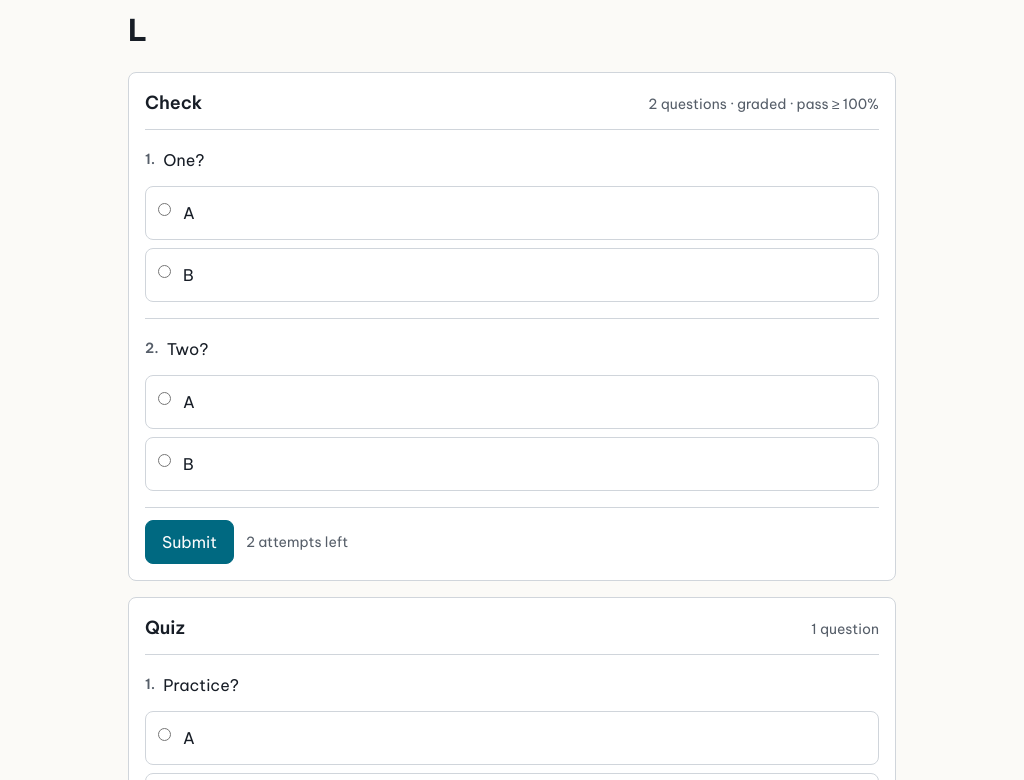
Scenario: QuizRenderer › graded quiz: submit, feedback after submit, retry within attempts, completion state
The width and height of the screenshot is (1024, 780).
Expected: the element "Check" shows "2 questions", x1=648 y1=95 x2=879 y2=113
Click the radio button labelled "B" below "One?" at (164, 272), box x1=158 y1=265 x2=171 y2=278
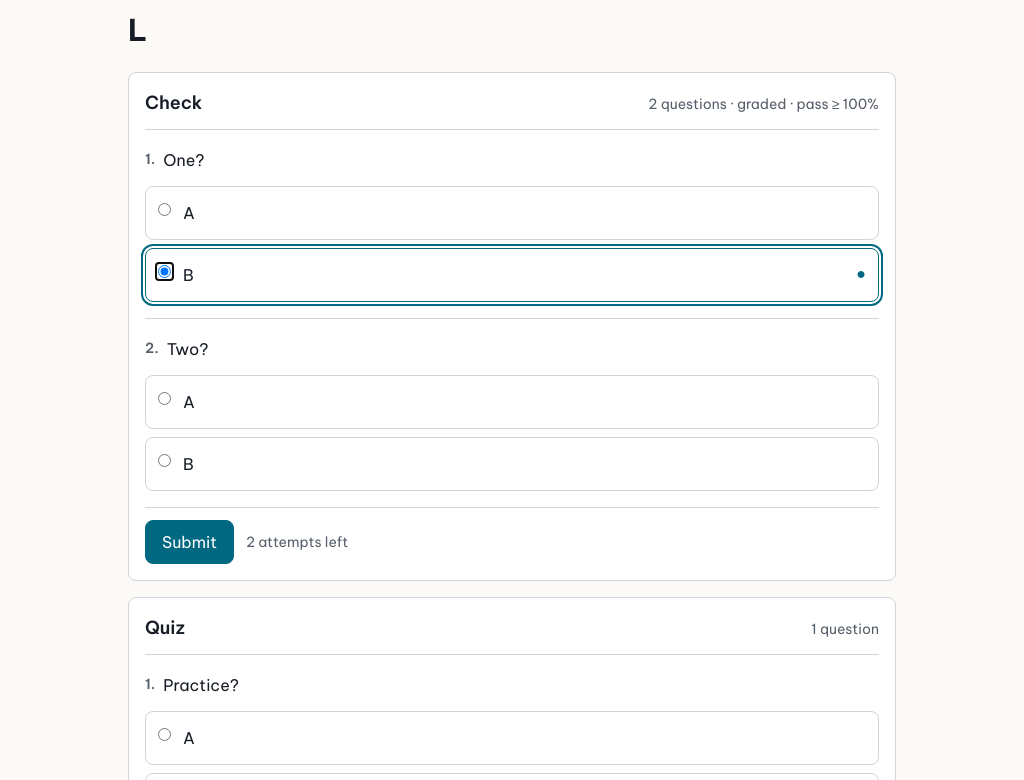
Click the radio button labelled "A" below "Two?" at (164, 398), box x1=158 y1=392 x2=171 y2=405
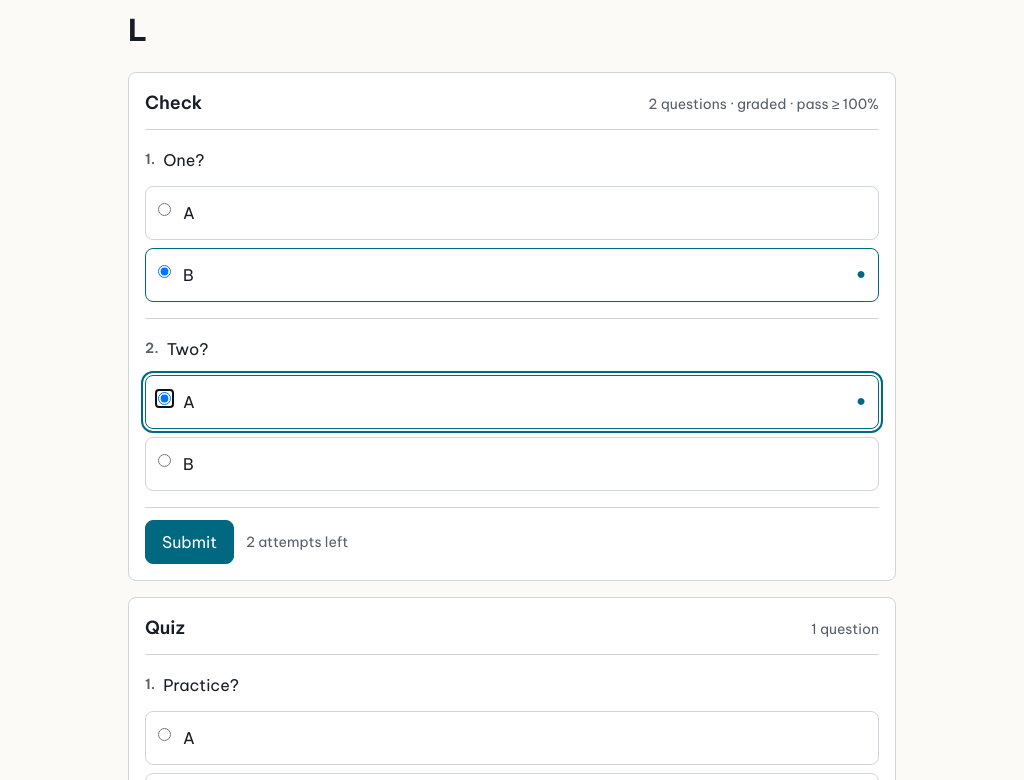
Click the button "Submit" at (190, 542), box x1=145 y1=520 x2=234 y2=564
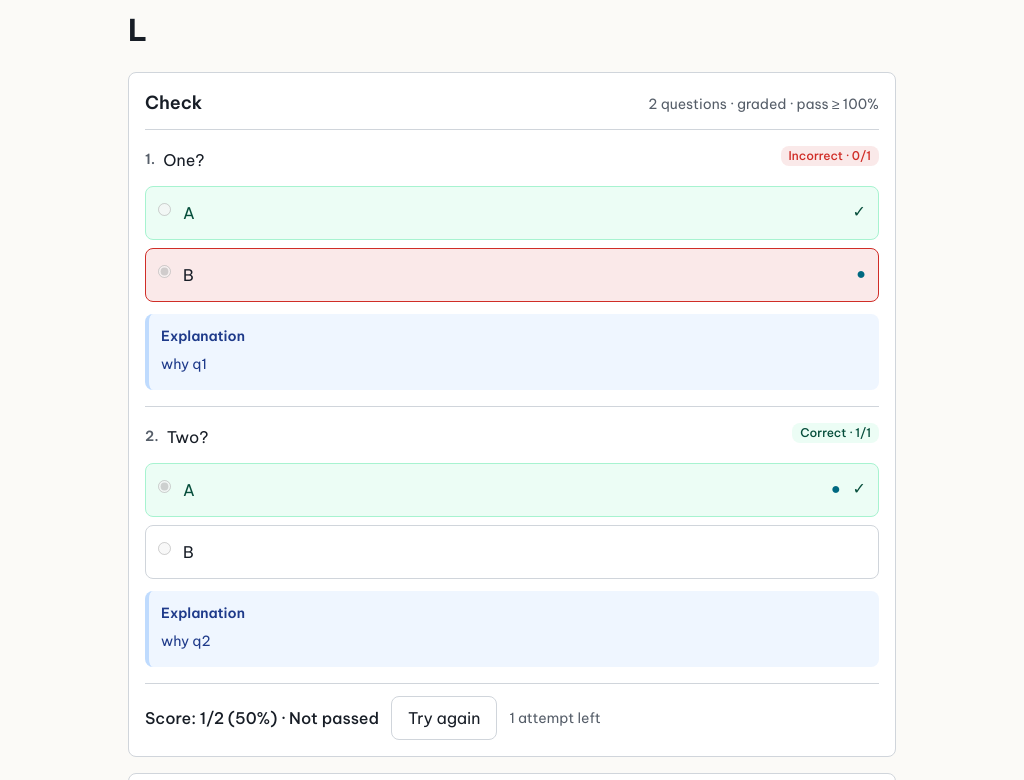
Expected: the text "Score: 1/2 (50%) · Not passed" is shown, x1=145 y1=706 x2=379 y2=730
Expected: the text "why q1" is shown, x1=161 y1=355 x2=207 y2=373
Expected: the text "1 attempt left" is shown, x1=510 y1=708 x2=601 y2=728
Click the button "Try again" at (444, 718), box x1=391 y1=696 x2=498 y2=740
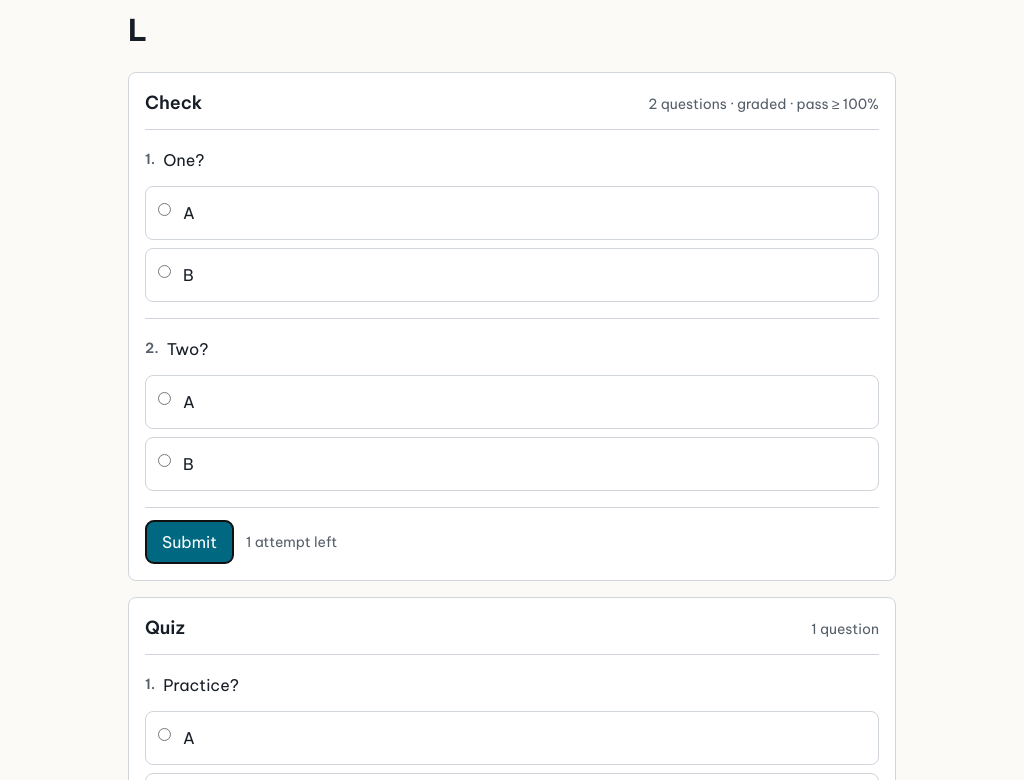
Expected: the text "why q1" is gone
